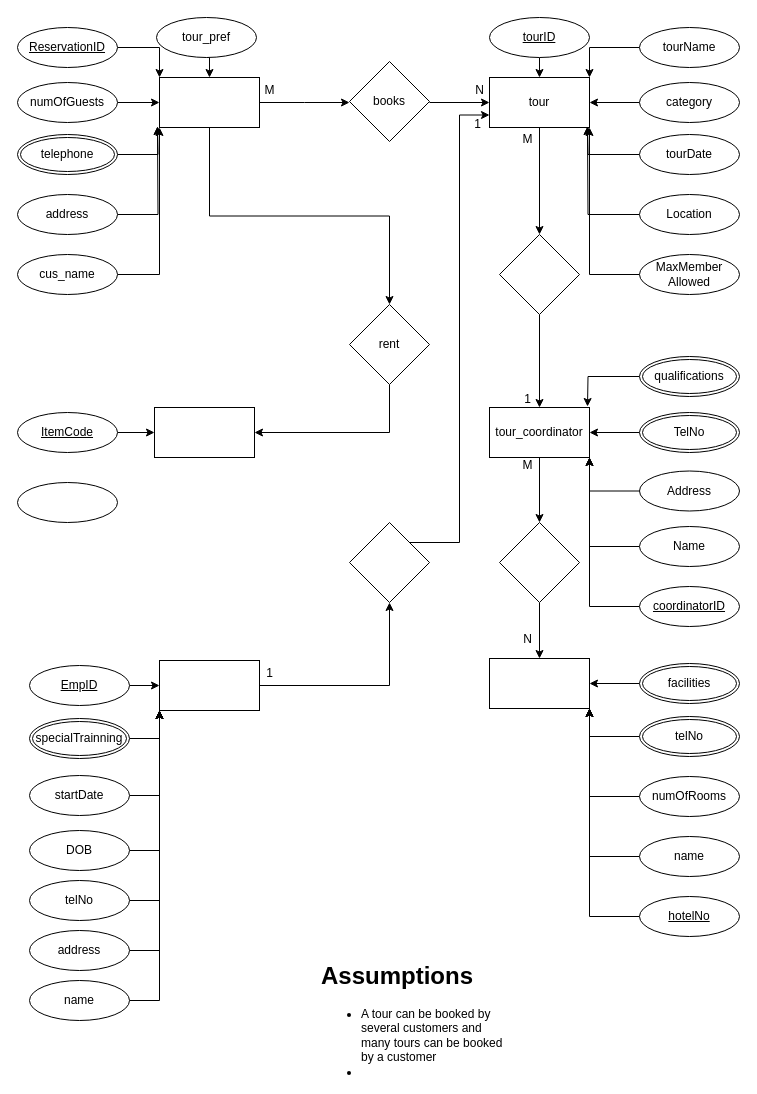
Image size: 757x1094. Some labels were removed from this diagram. The centre of each missing label's shape, as x and y in pixels:
"assinged" belongs at (389,562).
"coordinates" belongs at (539,274).
"customer" belongs at (209,102).
"Description" belongs at (67,502).
"equipment" belongs at (204,432).
"hotel" belongs at (539,683).
"reserve" belongs at (539,562).
"tourGuide" belongs at (209,685).
